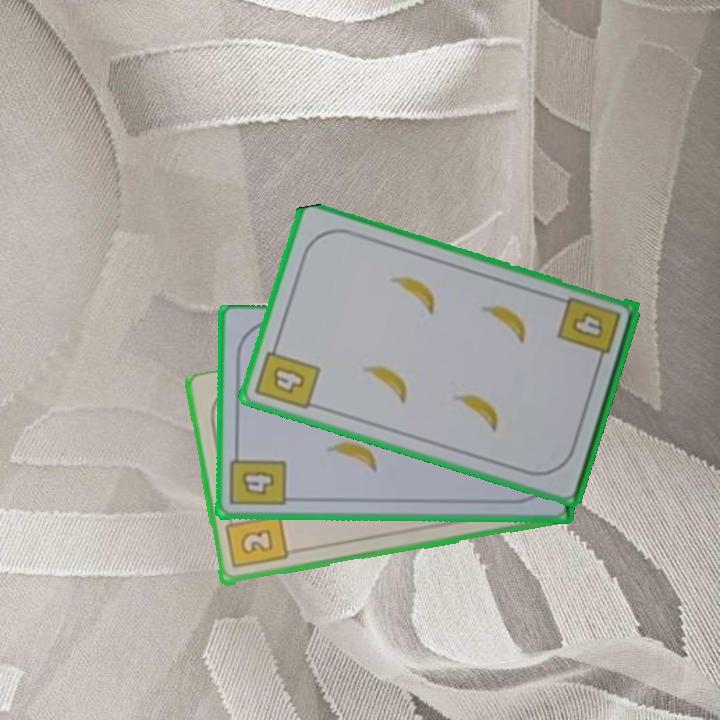2b: (222, 511, 290, 572)
4b: (252, 337, 323, 413), (554, 293, 624, 368), (227, 446, 289, 509)
